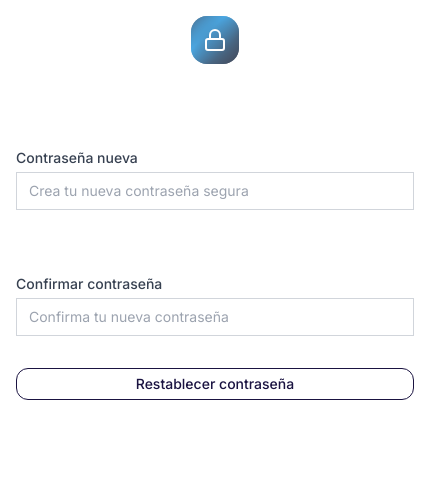
Scenario: ResetPasswordForm › Interacciones de UI › debe limpiar errores del servidor cuando se modifica la contraseña
Type "SecurePass123!" into the password field labelled "Contraseña nueva". click: coordinates (215, 191)
box: [16,172,414,210]
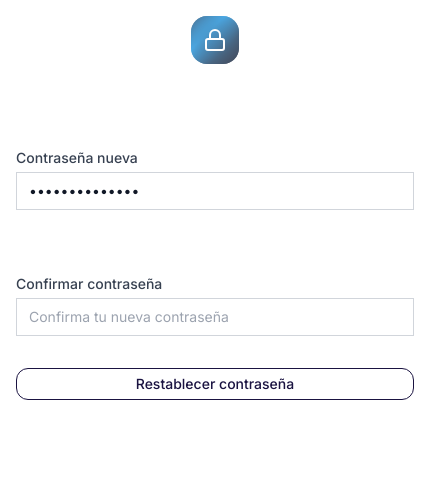
Type "SecurePass123!" into the password field labelled "Confirmar contraseña". click: coordinates (215, 317)
box: [16,298,414,336]
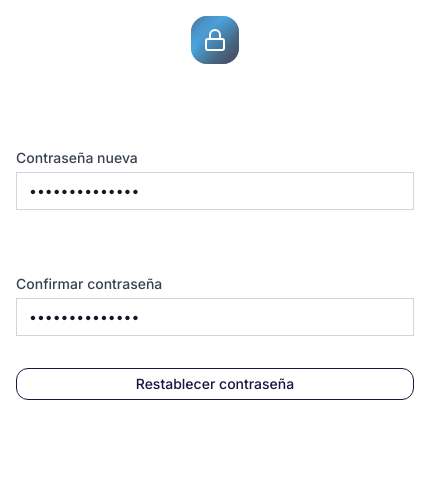
Click the button "Restablecer contraseña". click: coordinates (215, 384)
box: [16,368,414,400]
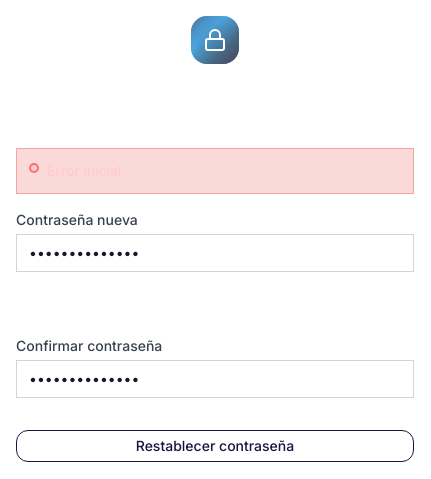
Type "NuevaPass123!" into the password field labelled "Contraseña nueva". click: coordinates (215, 253)
box: [16,234,414,272]
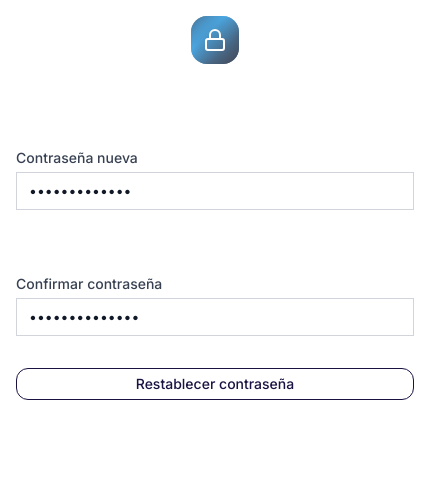
Expected: the text "Error inicial" is gone
